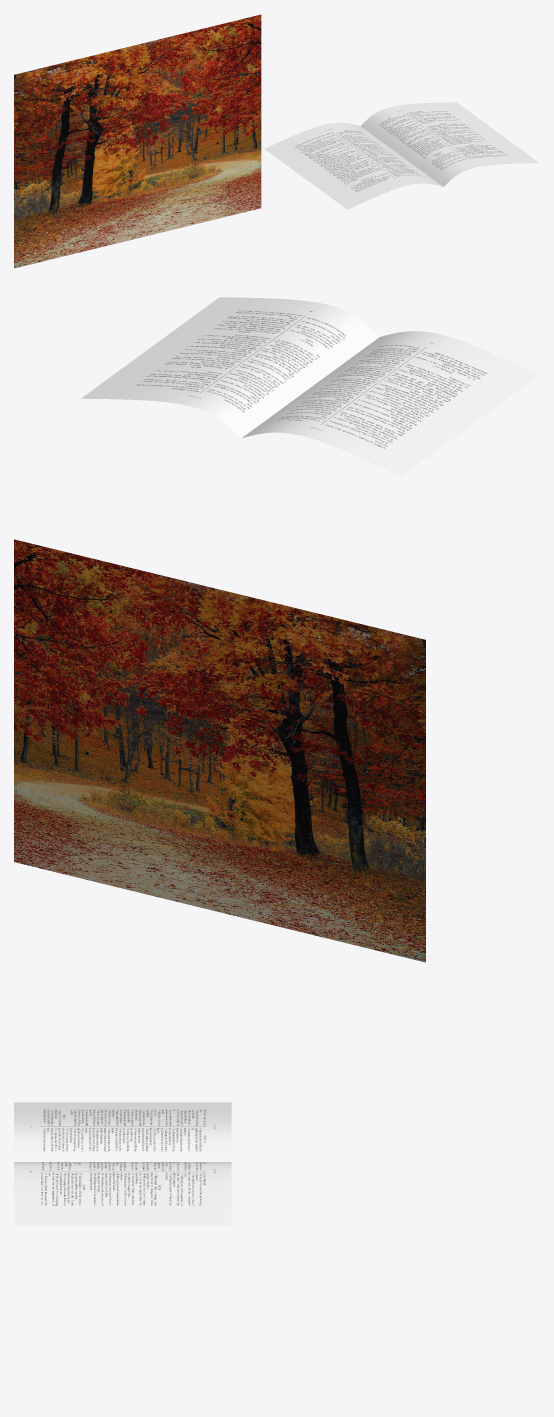
File: Thanksgiving.dae
3 views of the same model, one above another, from view 1: azimuth 30°, elevation 25°; view 2: azimuth 150°, elevation 25°; view 3: azimuth 270°, elevation 25° (orthographic). The views are drawn at different scales.
Parts seen in each view (by area): view 1: Plane, jobb_oldali_lapok_001, bal_oldali_lapok_002; view 2: Plane, jobb_oldali_lapok_001, bal_oldali_lapok_002; view 3: jobb_oldali_lapok_001, bal_oldali_lapok_002.
Boxes of the visible parts, x1=… form: Plane: x1=14, y1=14, x2=261, y2=268; jobb_oldali_lapok_001: x1=361, y1=102, x2=539, y2=186; bal_oldali_lapok_002: x1=264, y1=122, x2=442, y2=209; Plane: x1=14, y1=539, x2=425, y2=962; jobb_oldali_lapok_001: x1=81, y1=297, x2=379, y2=438; bal_oldali_lapok_002: x1=242, y1=331, x2=539, y2=475; jobb_oldali_lapok_001: x1=14, y1=1162, x2=231, y2=1225; bal_oldali_lapok_002: x1=14, y1=1102, x2=231, y2=1161.
Size of the model in its own units: 0.6701 by 0.7174 by 0.3817.
3 materials, 3 textured.
